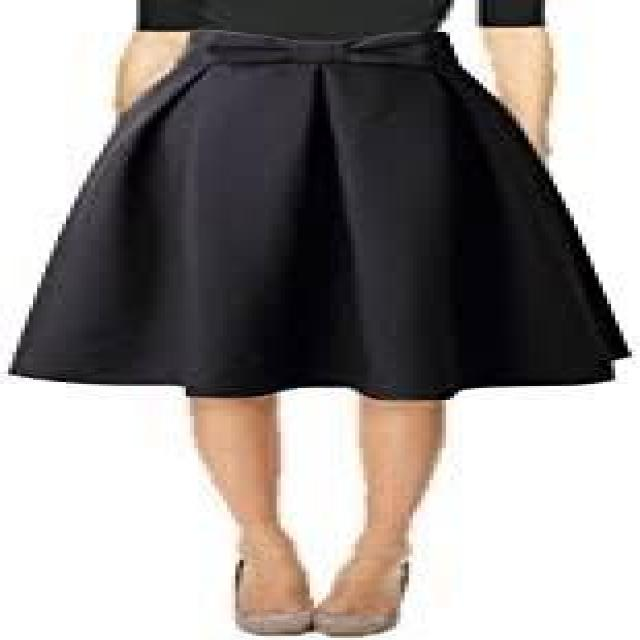skirt: (0, 15, 640, 427)
